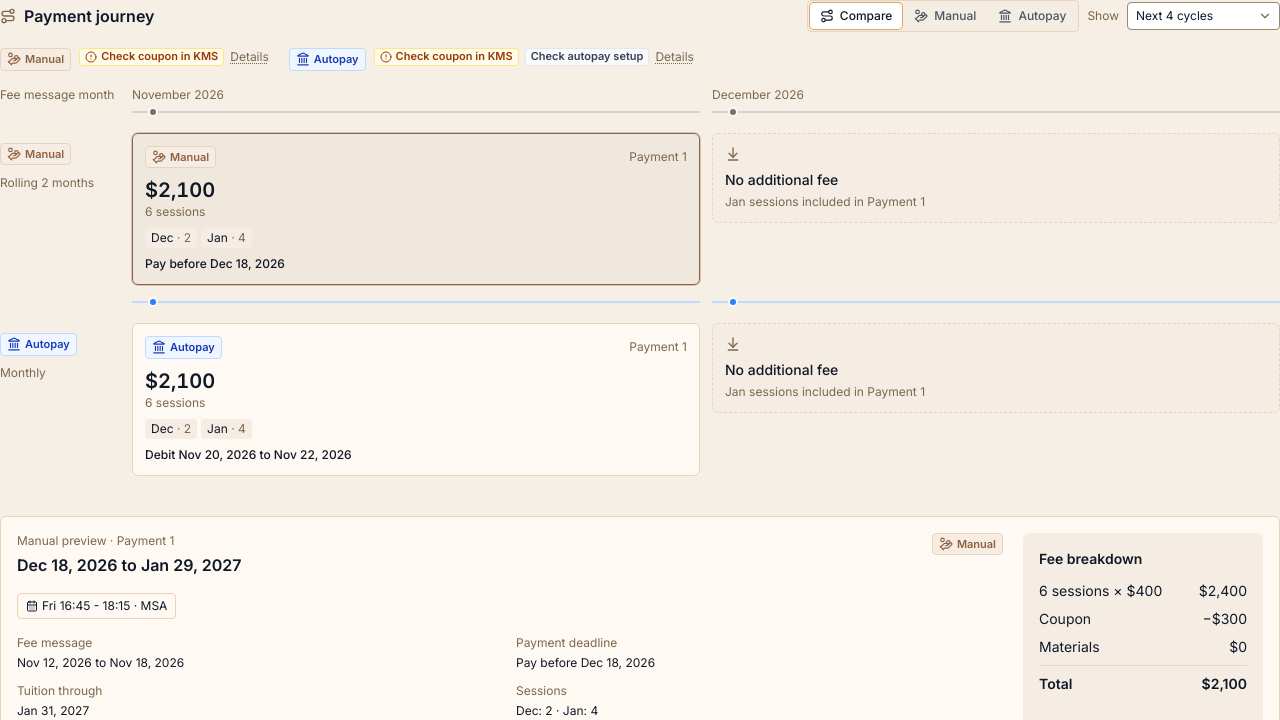
Scenario: visual payment journey › keeps global coupon checks visible and scopes bank setup notes to the autopay plan
Expected: the 1st text "Check coupon in KMS" is shown, [79,48,224,66]
Expected: the text "Check autopay setup" is shown, [525,48,649,66]
Click the button "Manual".
click(945, 16)  # box [904,3,986,29]
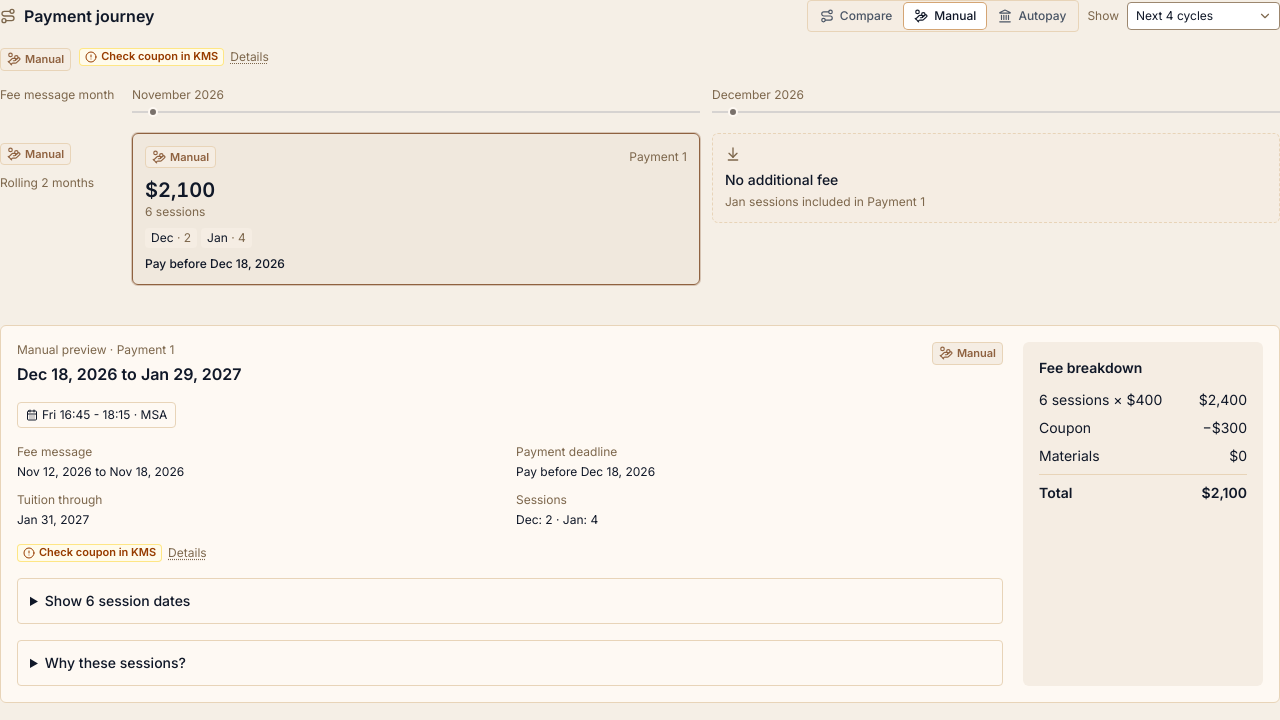
Now the heading "Check autopay setup" is gone
